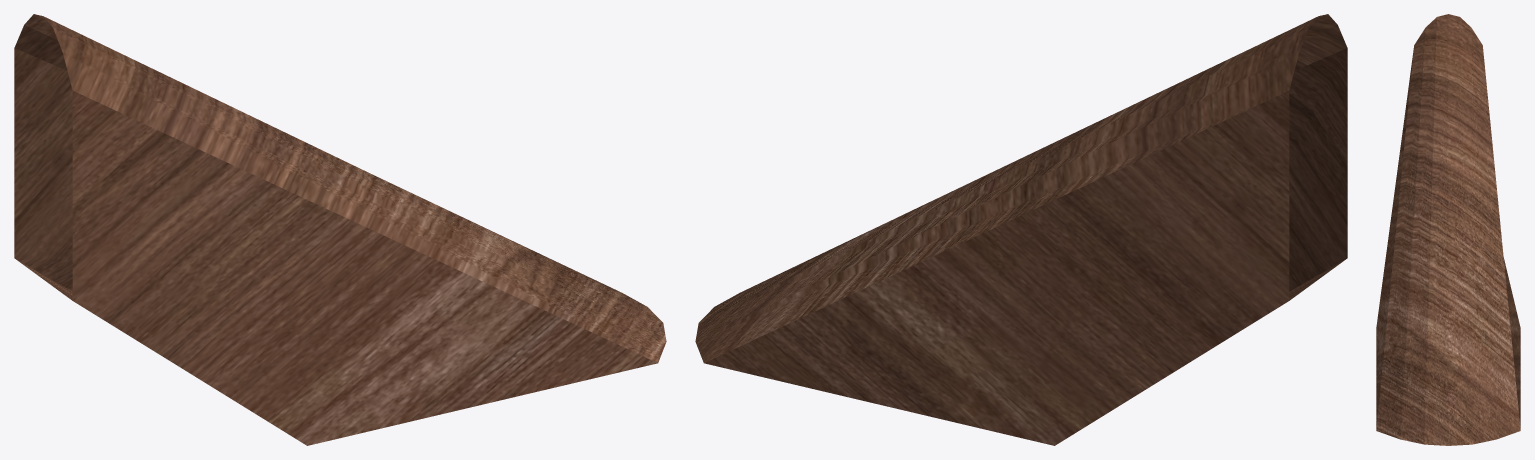
Rendered from GodRay.fbx.
3 views of the same model, side by side, from view 1: azimuth 30°, elevation 25°; view 2: azimuth 150°, elevation 25°; view 3: azimuth 270°, elevation 25° (orthographic). The views are drawn at different scales.
Visible parts, largest first — view 1: Frame.003; view 2: Frame.003; view 3: Frame.003.
Boxes of the visible parts, left/top/right/bottom form: Frame.003: left=14, top=14, right=666, bottom=445; Frame.003: left=695, top=14, right=1347, bottom=445; Frame.003: left=1376, top=14, right=1520, bottom=445.
Size of the model in its own units: 954 by 661 by 335.
Materials: 1 (1 with a texture image).
